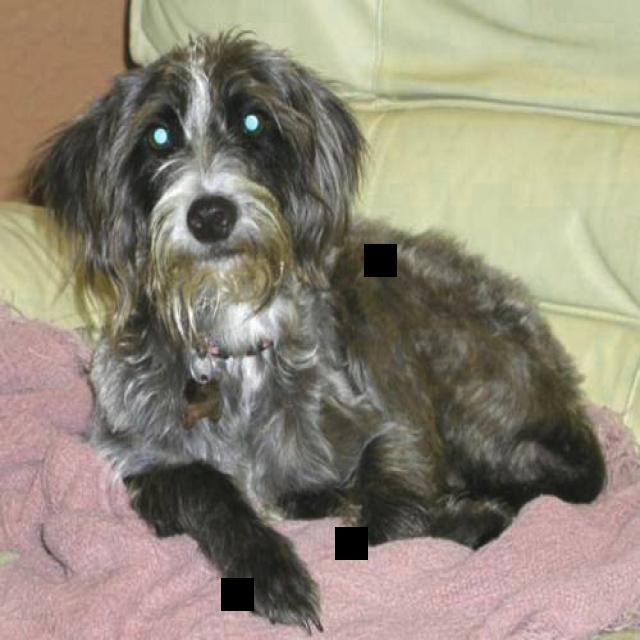adult_dog: (24, 22, 607, 635)
